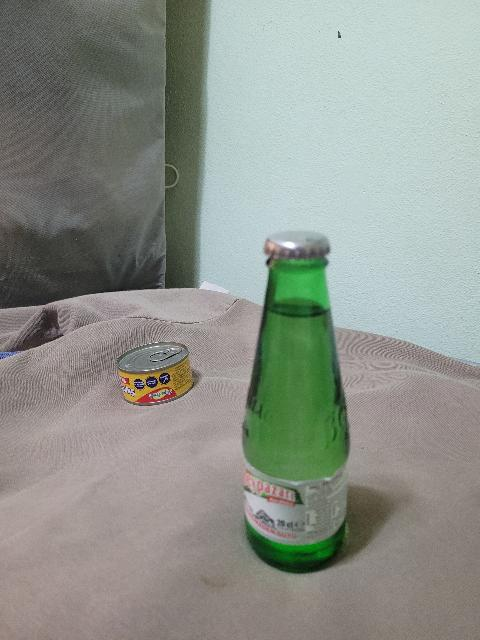Cam: (231, 267, 360, 575)
Metal: (113, 340, 206, 409), (258, 225, 337, 267)
